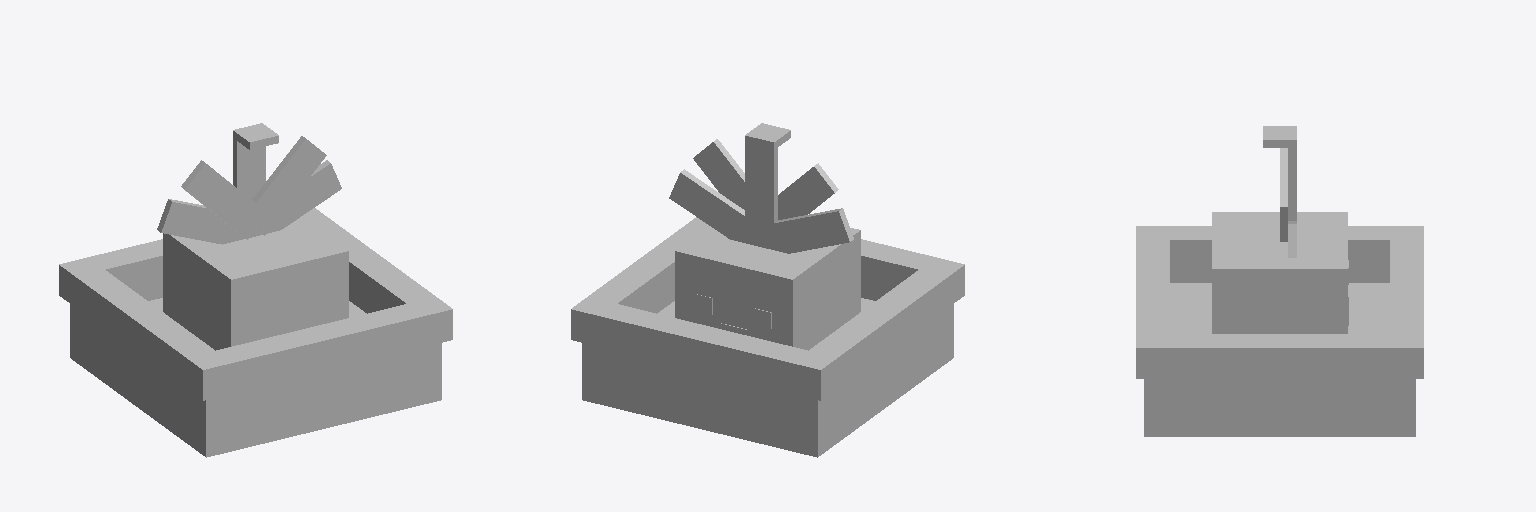
Rendered from oddish.obj.
The picture shows the model from 3 angles: view 1: azimuth 30°, elevation 25°; view 2: azimuth 150°, elevation 25°; view 3: azimuth 270°, elevation 25°; orthographic projection.
Visible parts, largest first — view 1: cube.009, cube.006, cube.002, cube.005, cube.007, cube.004, cube.003, cube.016, cube.015, cube.017, cube.018, cube.013 (+2 smaller); view 2: cube.009, cube.001, cube.003, cube.005, cube.007, cube.004, cube.002, cube.013, cube.017, cube.018, cube.015, cube.016 (+1 smaller); view 3: cube.009, cube.008, cube.004, cube.002, cube.003, cube, cube.005, cube.007, cube.001, cube.006, cube.013, cube.014 (+1 smaller).
Part boxes in pixels (bbox=[...]): cube.009: bbox=[163, 216, 348, 350]; cube.006: bbox=[198, 343, 441, 457]; cube.002: bbox=[186, 297, 452, 400]; cube.005: bbox=[76, 270, 214, 387]; cube.007: bbox=[79, 311, 197, 450]; cube.004: bbox=[307, 216, 435, 311]; cube.003: bbox=[59, 208, 324, 307]; cube.016: bbox=[245, 136, 326, 235]; cube.015: bbox=[181, 160, 265, 239]; cube.017: bbox=[157, 199, 244, 244]; cube.018: bbox=[259, 160, 341, 233]; cube.013: bbox=[233, 123, 265, 237]; cube.009: bbox=[675, 226, 860, 350]; cube.001: bbox=[582, 343, 825, 457]; cube.003: bbox=[571, 297, 837, 400]; cube.005: bbox=[809, 270, 947, 387]; cube.007: bbox=[826, 311, 944, 450]; cube.004: bbox=[588, 217, 708, 311]; cube.002: bbox=[861, 239, 964, 307]; cube.013: bbox=[745, 132, 777, 247]; cube.017: bbox=[758, 208, 853, 253]; cube.018: bbox=[669, 169, 760, 242]; cube.015: bbox=[778, 163, 838, 219]; cube.016: bbox=[693, 139, 744, 209]; cube.009: bbox=[1212, 212, 1347, 333]; cube.008: bbox=[1161, 379, 1398, 436]; cube.004: bbox=[1170, 334, 1389, 378]; cube.002: bbox=[1136, 226, 1169, 378]; cube.003: bbox=[1390, 226, 1423, 378]; cube: bbox=[1170, 283, 1389, 333]; cube.005: bbox=[1170, 226, 1389, 270]; cube.007: bbox=[1170, 271, 1389, 282]; cube.001: bbox=[1399, 379, 1415, 436]; cube.006: bbox=[1144, 379, 1160, 436]; cube.013: bbox=[1288, 126, 1296, 220]; cube.014: bbox=[1263, 126, 1287, 147].
Size of the model in its own units: 0.999 by 0.9402 by 0.999.